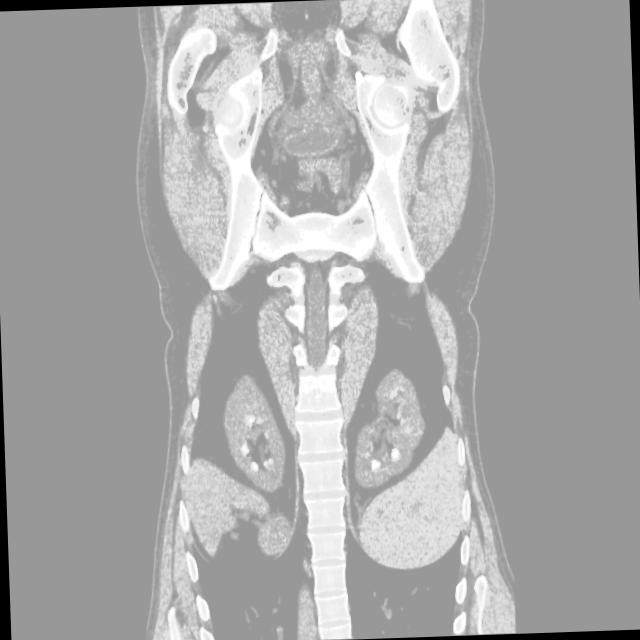STONE: (91, 356, 550, 548)
